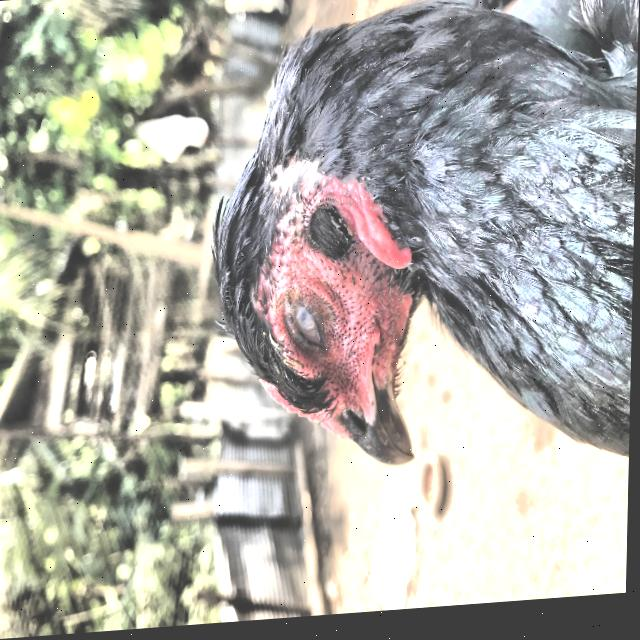Coryza: (191, 0, 640, 514)
